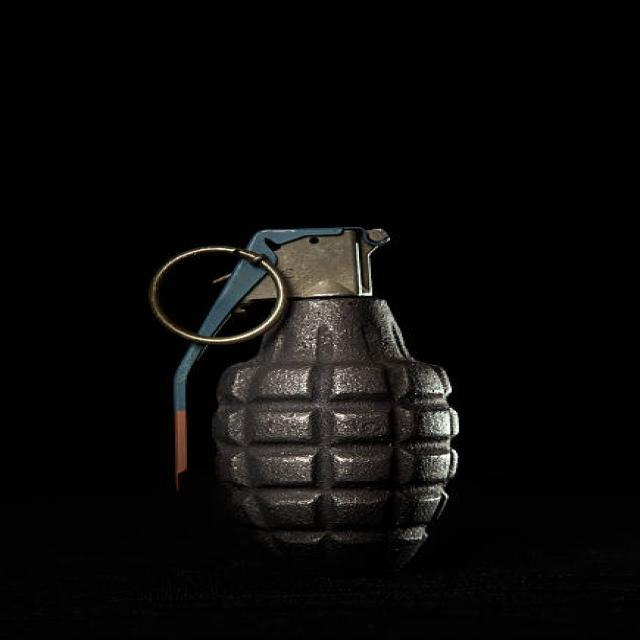grenade: (144, 214, 463, 570)
